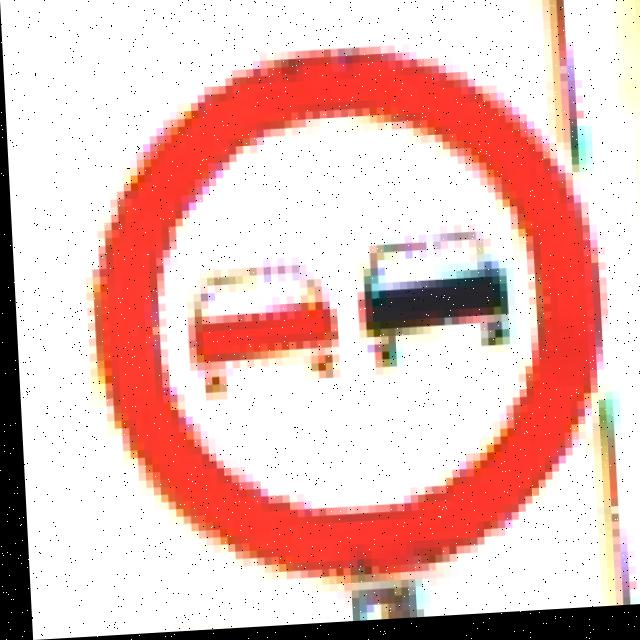no_overtaking: (76, 43, 623, 588)
